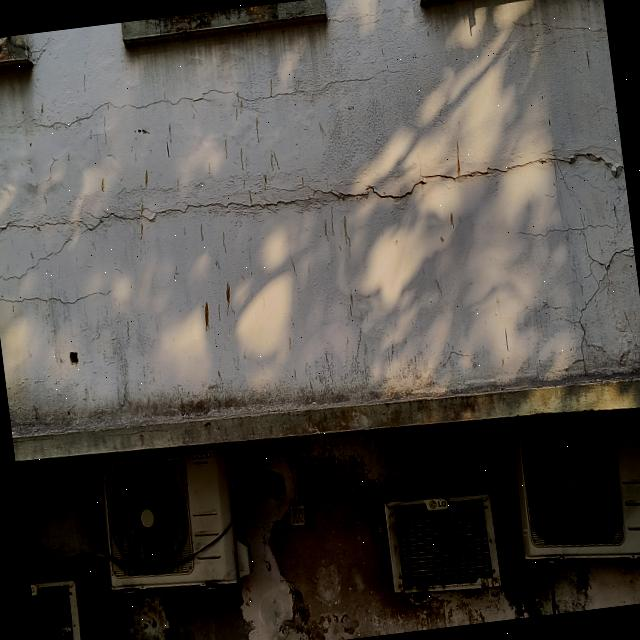crack: (0, 149, 622, 239), (21, 55, 397, 136), (518, 201, 635, 385), (0, 277, 112, 315), (0, 232, 75, 280), (516, 10, 607, 39)
stain_mould: (7, 357, 640, 451), (270, 445, 519, 640), (122, 0, 327, 37), (98, 577, 216, 640), (0, 34, 34, 64)
